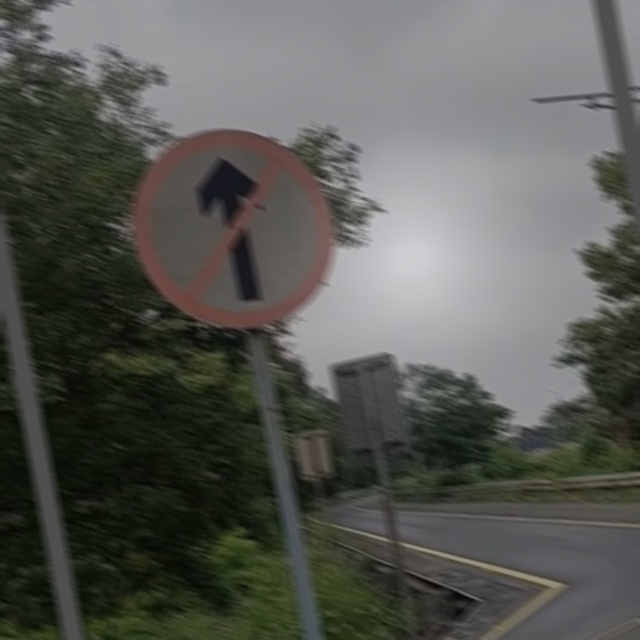No_Entry: (117, 115, 348, 344)
